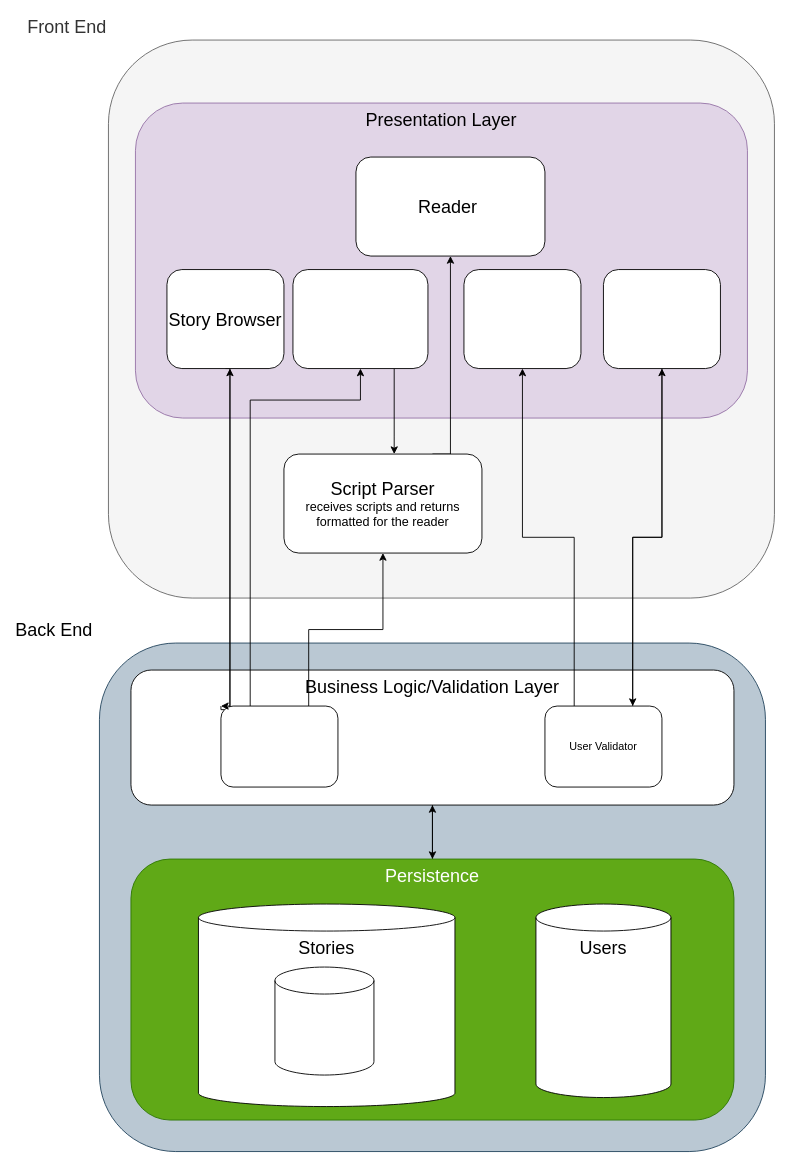
Some shapes in this 790 by 1167 pixel diagram are drawn without their labels. The centre of each missing label's shape, as x and y in pixels:
Characters: point 324,1020
Editor: point 360,319
Login Page: point 661,319
Story Validator: point 279,746
User Page: point 522,319
